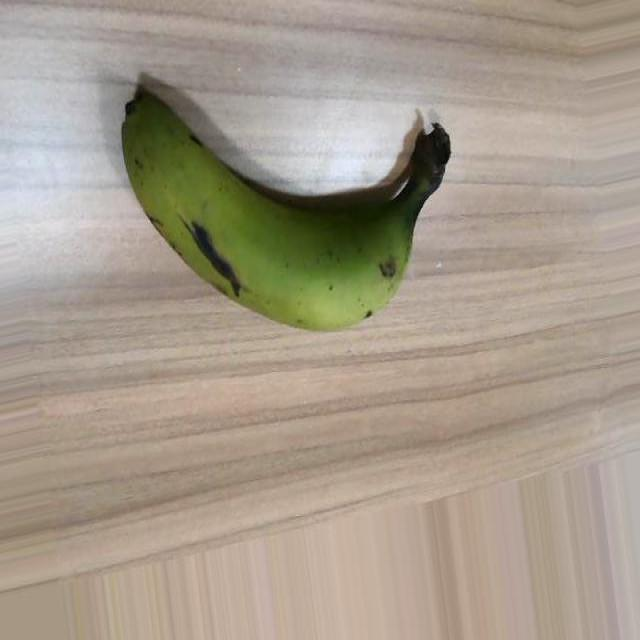Unripe: (120, 84, 449, 334)
